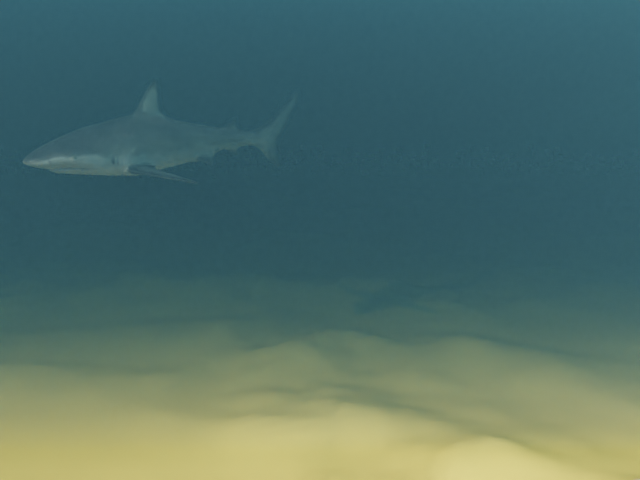Carribean Shark.001: (22, 80, 298, 183)
